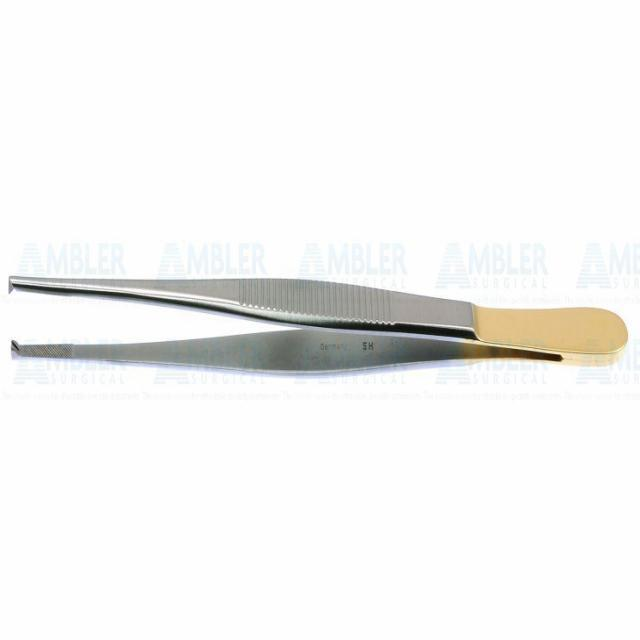Forceps: (8, 260, 630, 379)
